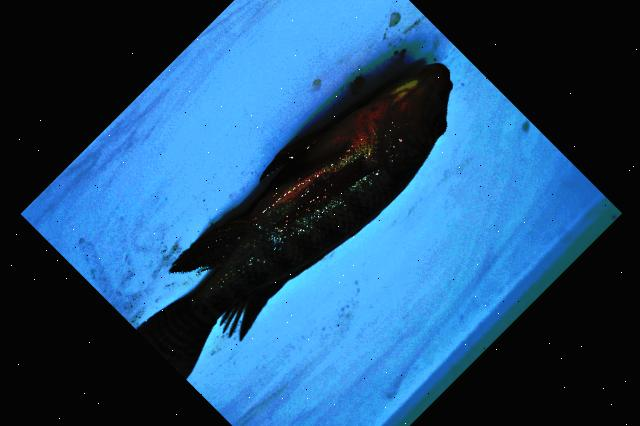Columnaris Disease: (135, 62, 450, 378)
